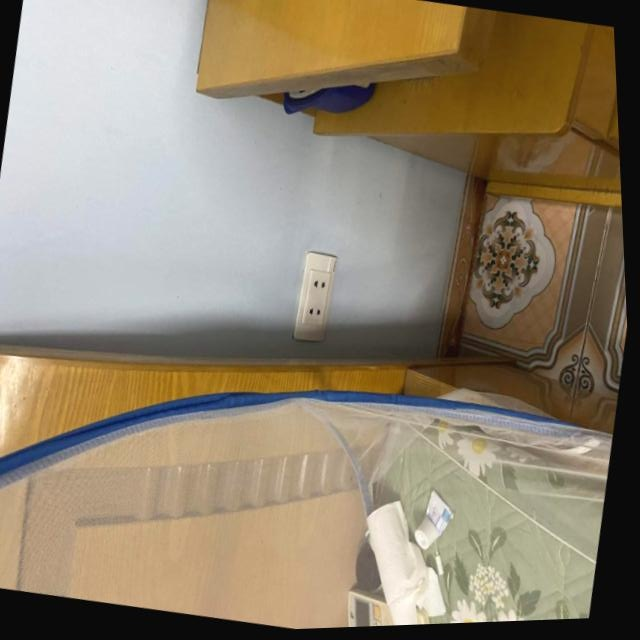outlet: (288, 250, 341, 347)
